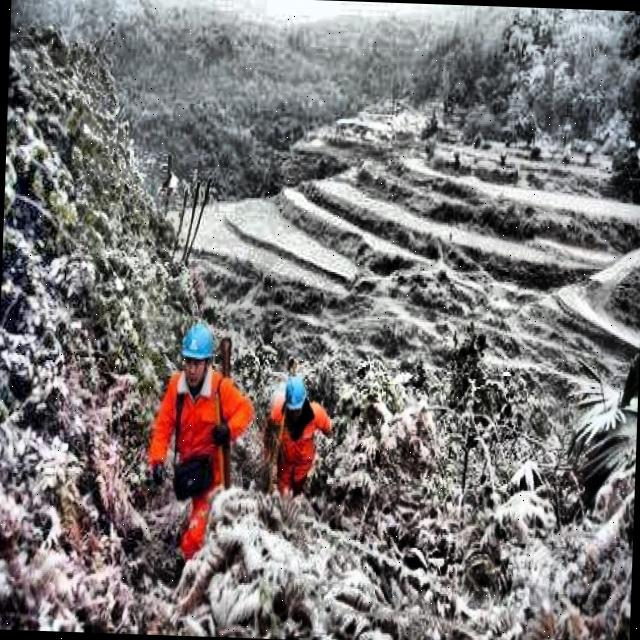helmet: (176, 317, 220, 383), (280, 374, 308, 424)
